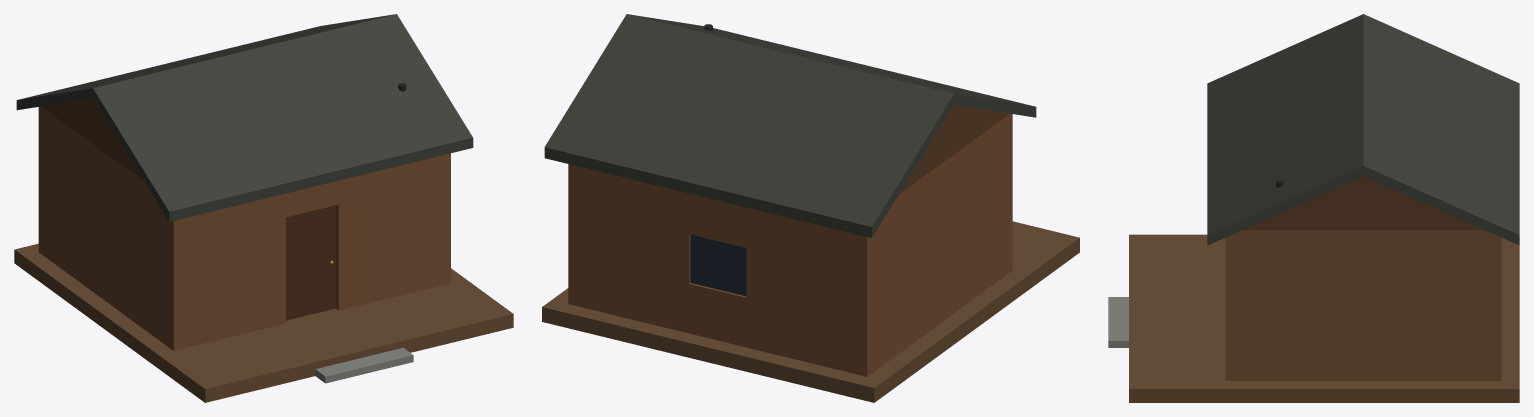
File: Cabin.roblox.glb
3 views of the same model, side by side, from view 1: azimuth 30°, elevation 25°; view 2: azimuth 150°, elevation 25°; view 3: azimuth 270°, elevation 25° (orthographic). The views are drawn at different scales.
Visible parts, largest first — view 1: CabinStatic1, Door; view 2: CabinStatic1; view 3: CabinStatic1.
Part boxes in pixels (x1,y1,x2,y2): CabinStatic1: (14, 14, 513, 402); Door: (286, 205, 335, 320); CabinStatic1: (542, 14, 1079, 402); CabinStatic1: (1108, 14, 1519, 402).
Bounding box in the file's own units: 31.5 × 22.5 × 35.55.
